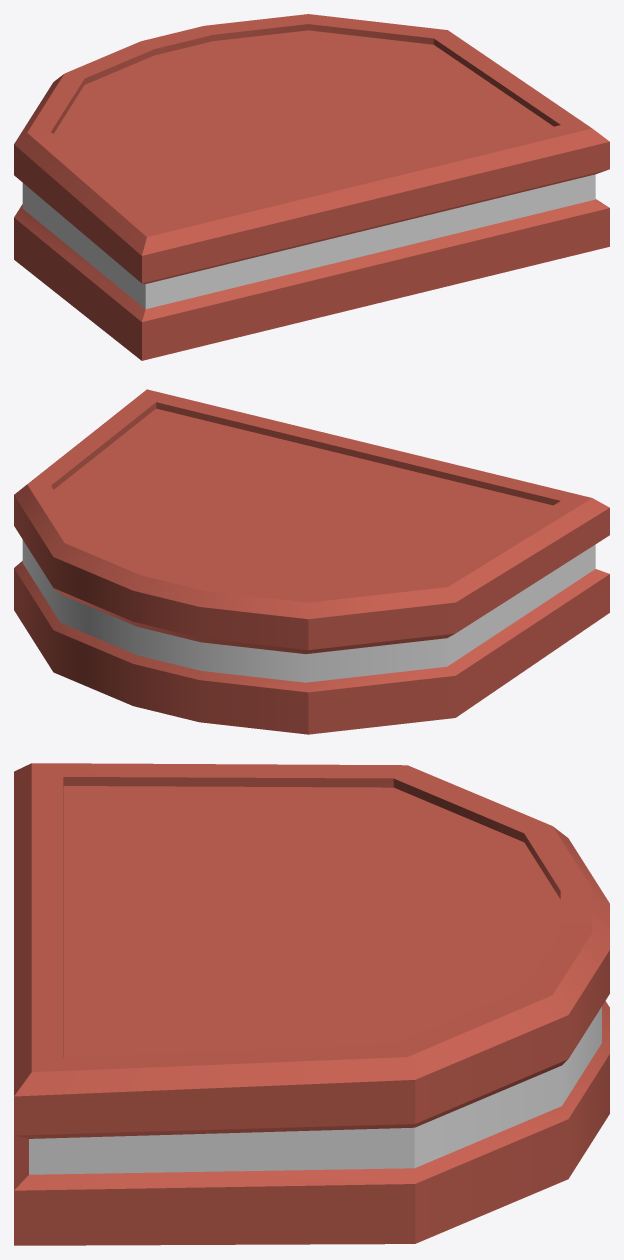
The model's file is AND_Gate.fbx.
3 views of the same model, one above another, from view 1: azimuth 30°, elevation 25°; view 2: azimuth 150°, elevation 25°; view 3: azimuth 270°, elevation 25° (orthographic). The views are drawn at different scales.
Visible parts, largest first — view 1: AND Circuit; view 2: AND Circuit; view 3: AND Circuit.
Boxes of the visible parts, x1,y1,x2,y2 form: AND Circuit: (14,14,609,360); AND Circuit: (14,389,609,734); AND Circuit: (14,763,609,1245).
Size of the model in its own units: 200 by 51.71 by 155.
